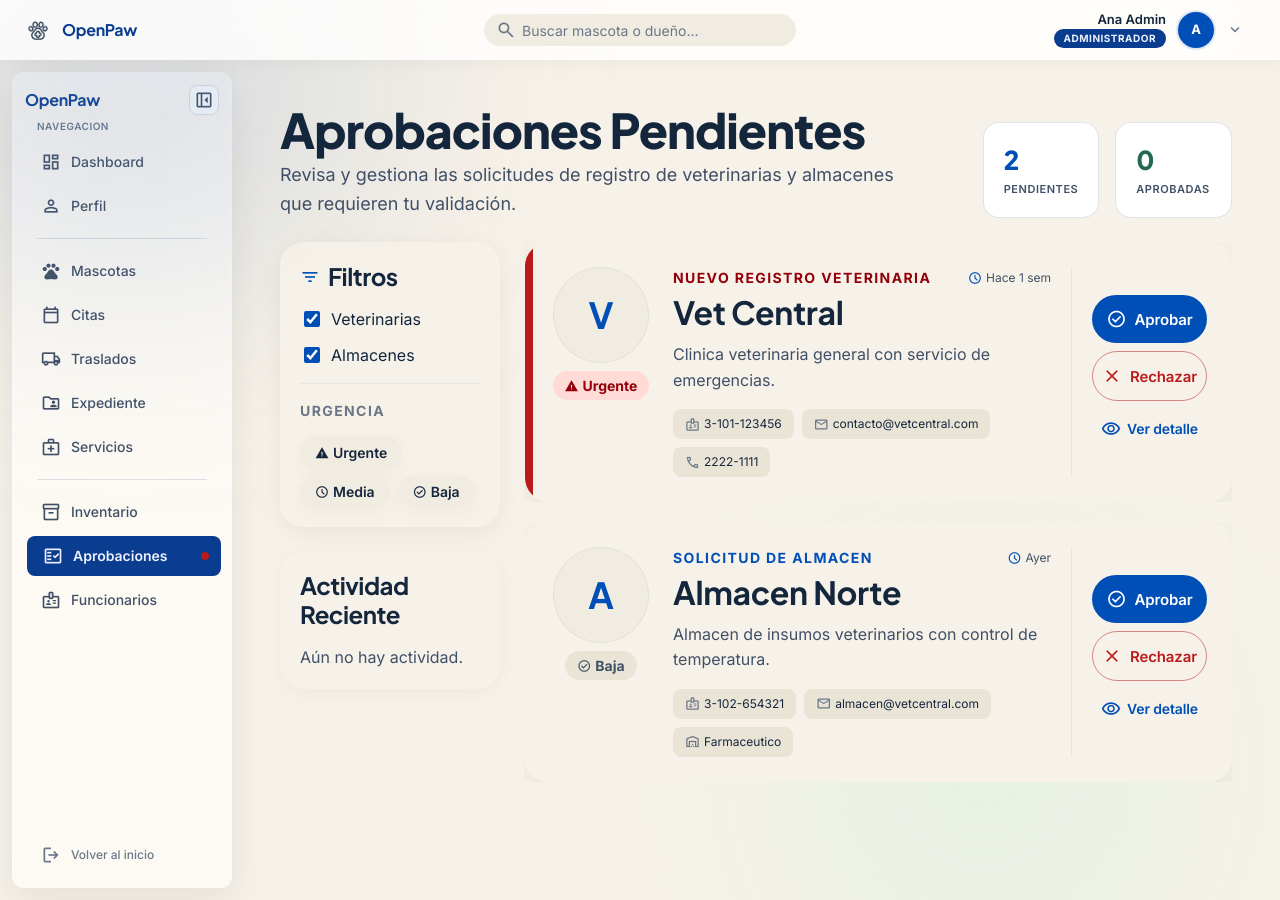
Test: ApprovalsListPage - feed de cards con urgencia y animacion (T33) › filtros por tipo de solicitud ocultan las cards
Check: the heading "Almacen Norte" is shown, box [673,572,901,612]
Click the checkbox labelled "Almacenes": coordinates (312, 355) [304,347,320,363]
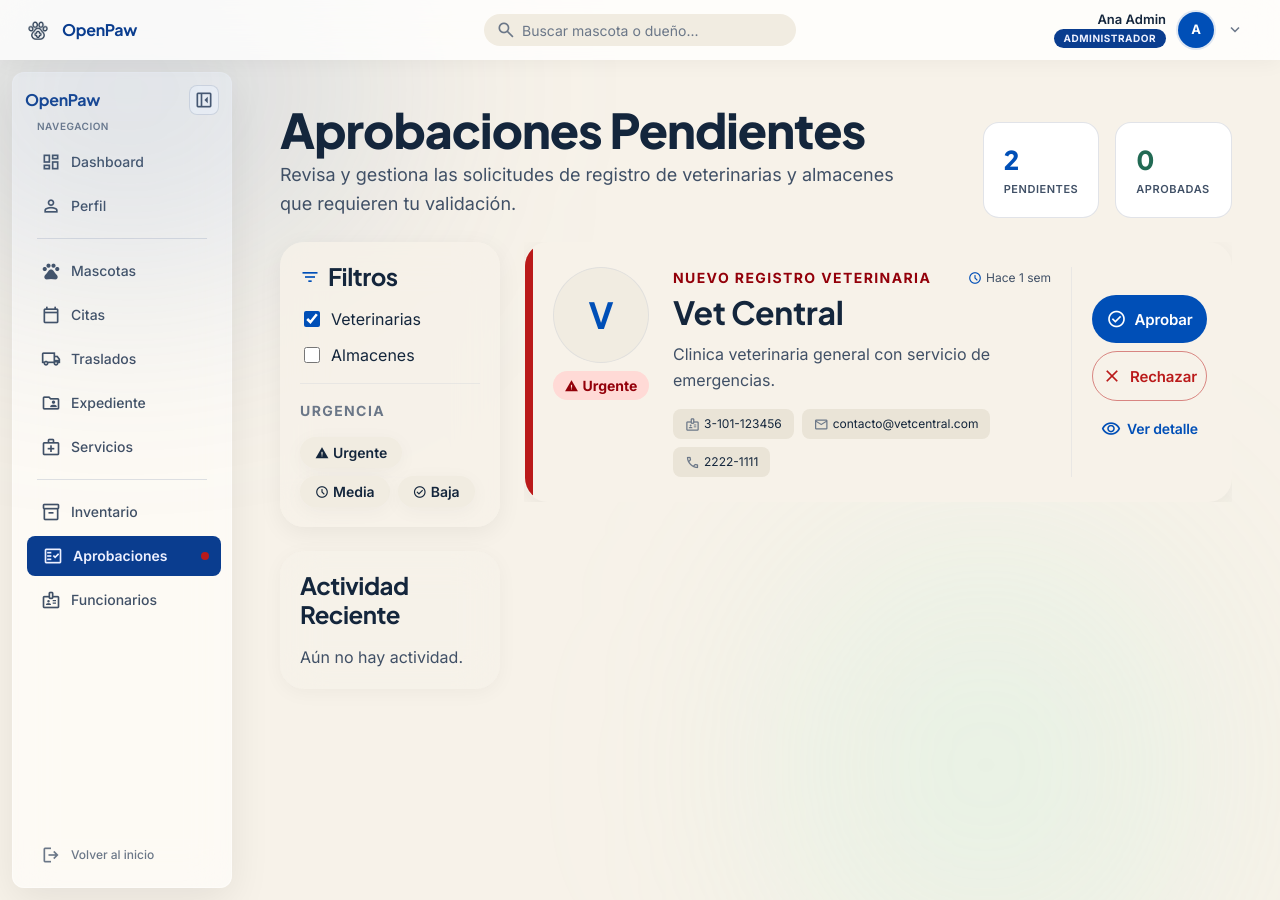
Check: the heading "Vet Central" is shown, box [673,292,844,332]
Check: the heading "Almacen Norte" is gone
Click the checkbox labelled "Veterinarias": coordinates (312, 319) [304,311,320,327]
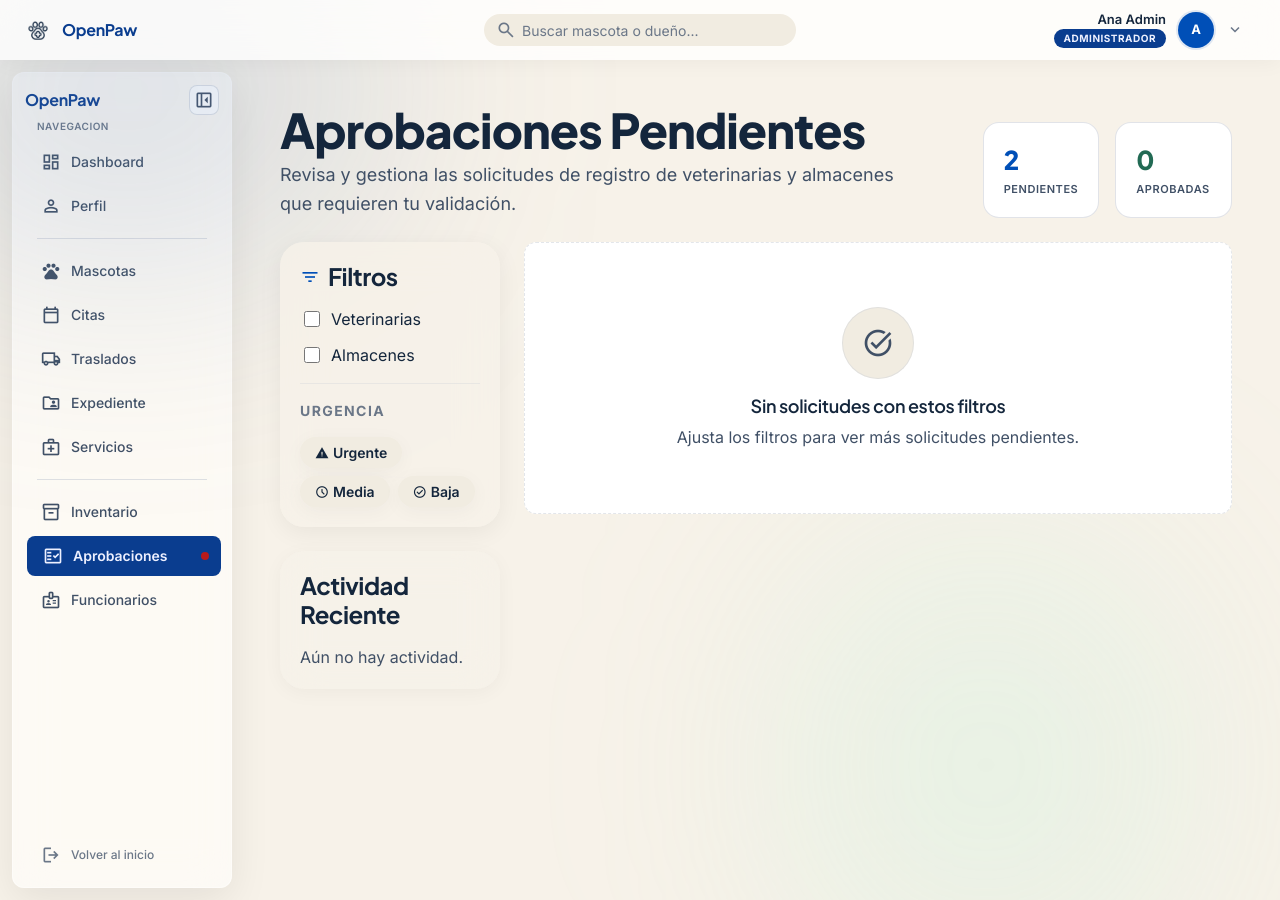
Check: the heading "Sin solicitudes con estos filtros" is shown, box [751,395,1005,417]
